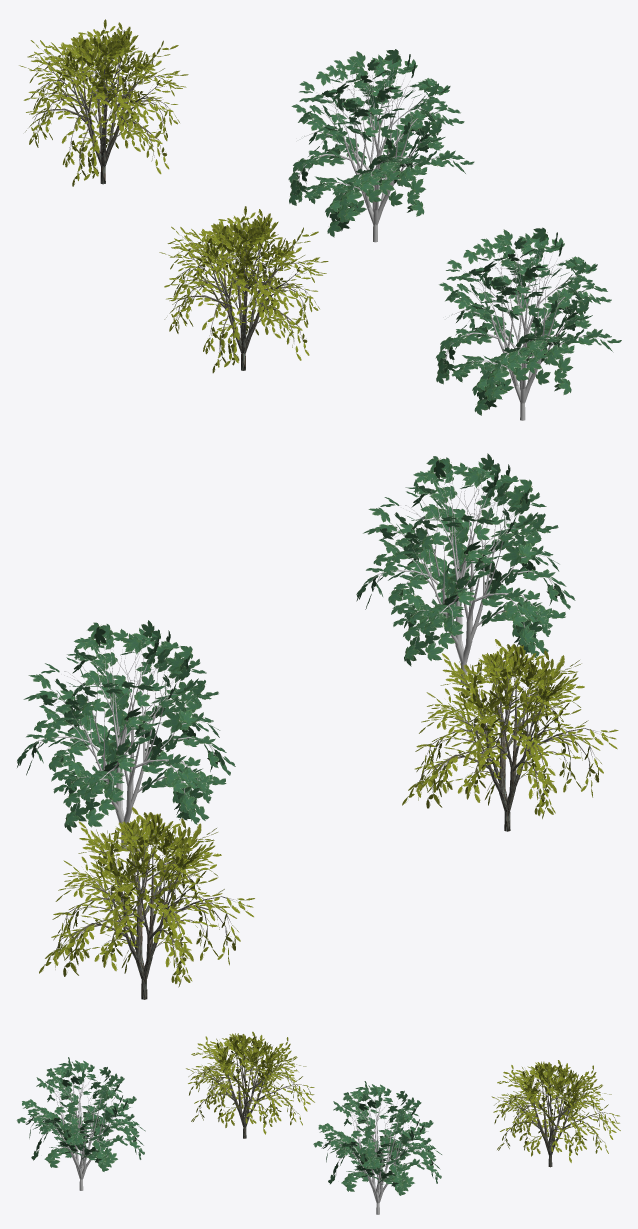
The model's file is station_trees.obj.
3 renders of one model, top to bottom at view 1: azimuth 30°, elevation 25°; view 2: azimuth 150°, elevation 25°; view 3: azimuth 270°, elevation 25°, orthographic. The views are drawn at different scales.
Parts seen in each view (by area): view 1: leaves.001, leaves.003, leaves.002, leaves, tree.003, tree.001, tree, tree.002; view 2: leaves.001, leaves.003, leaves, leaves.002, tree.003, tree.001, tree, tree.002; view 3: leaves.001, leaves.003, leaves.002, leaves, tree, tree.002, tree.001, tree.003.
Part boxes in pixels (x1=…): leaves.001: x1=288, y1=49, x2=474, y2=237; leaves.003: x1=435, y1=227, x2=621, y2=415; leaves.002: x1=159, y1=206, x2=328, y2=373; leaves: x1=19, y1=19, x2=188, y2=186; tree.003: x1=445, y1=244, x2=601, y2=420; tree.001: x1=298, y1=67, x2=454, y2=242; tree: x1=33, y1=37, x2=169, y2=184; tree.002: x1=173, y1=223, x2=309, y2=370; leaves.001: x1=17, y1=620, x2=235, y2=832; leaves.003: x1=356, y1=453, x2=575, y2=666; leaves: x1=39, y1=807, x2=254, y2=987; leaves.002: x1=402, y1=639, x2=618, y2=818; tree.003: x1=369, y1=471, x2=555, y2=682; tree.001: x1=30, y1=638, x2=215, y2=849; tree: x1=53, y1=833, x2=236, y2=999; tree.002: x1=416, y1=659, x2=600, y2=831; leaves.001: x1=313, y1=1081, x2=441, y2=1195; leaves.003: x1=16, y1=1057, x2=145, y2=1171; leaves.002: x1=186, y1=1031, x2=314, y2=1134; leaves: x1=491, y1=1060, x2=620, y2=1162; tree: x1=503, y1=1071, x2=610, y2=1167; tree.002: x1=196, y1=1044, x2=303, y2=1138; tree.001: x1=325, y1=1092, x2=434, y2=1214; tree.003: x1=29, y1=1068, x2=132, y2=1190.
Size of the model in its own units: 15.57 by 7.14 by 30.01.
